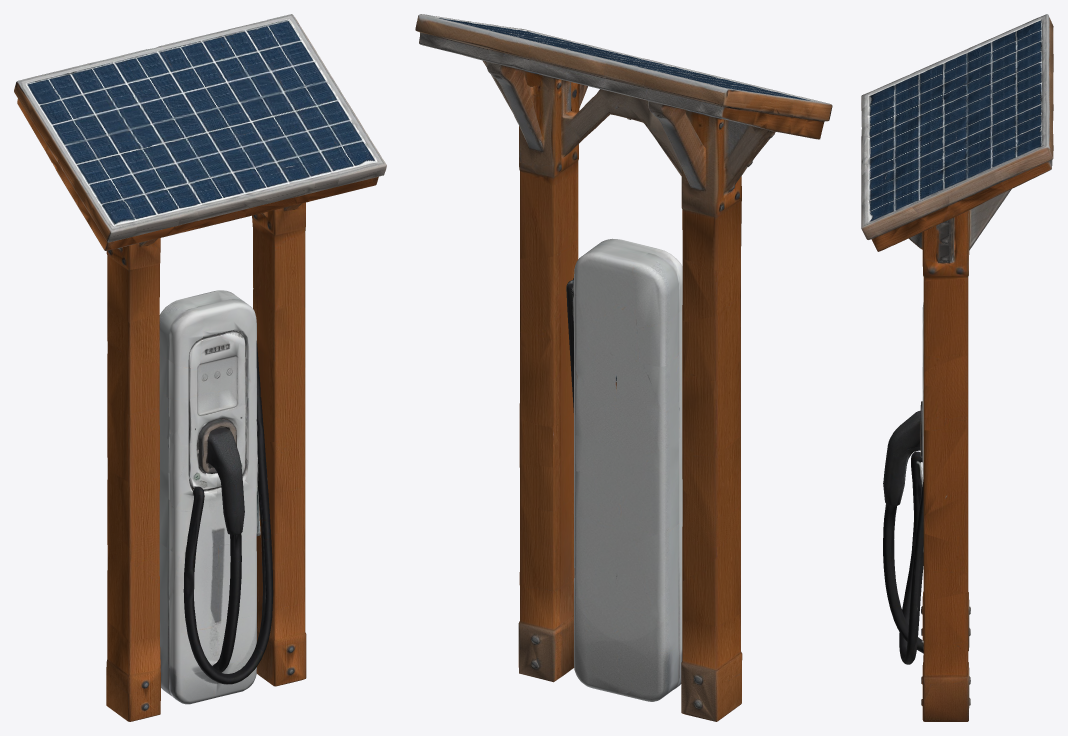
File: evpoint.glb
3 renders of one model, left to right at view 1: azimuth 30°, elevation 25°; view 2: azimuth 150°, elevation 25°; view 3: azimuth 270°, elevation 25°, orthographic. The views are drawn at different scales.
Visible parts, largest first — view 1: mesh_node; view 2: mesh_node; view 3: mesh_node.
Part boxes in pixels (<box>): mesh_node: <box>14,14,386,721</box>; mesh_node: <box>415,14,832,721</box>; mesh_node: <box>861,14,1053,721</box>.
Bounding box in the file's own units: 0.9081 × 1.9 × 0.5529.
1 material, 1 textured.
